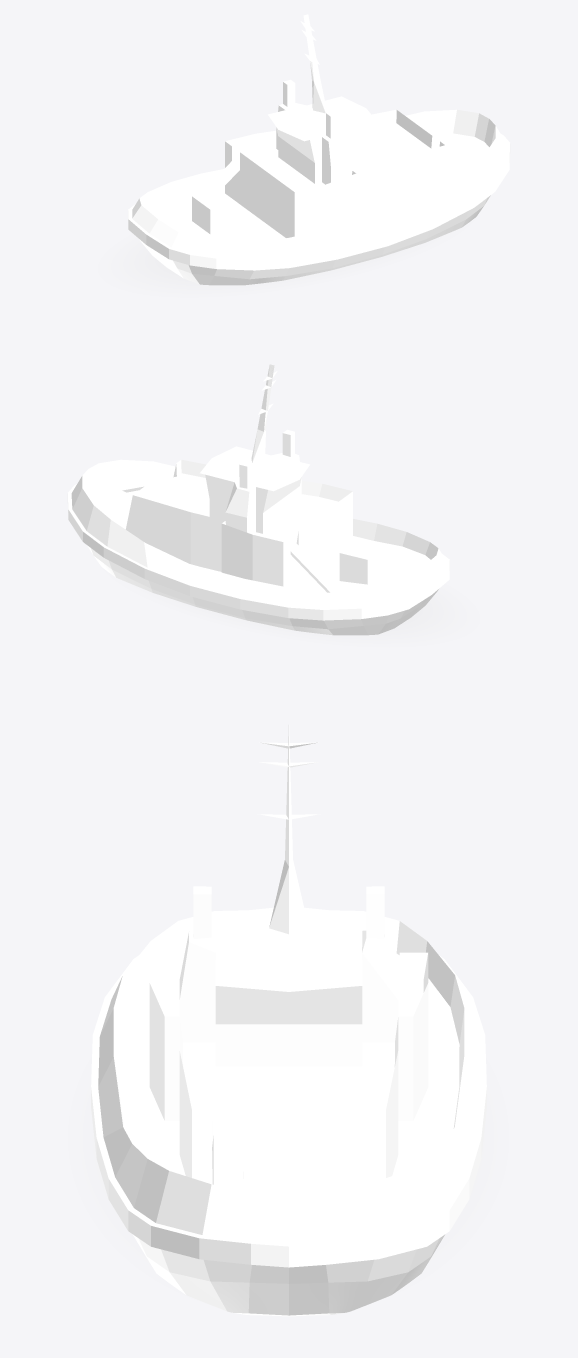
Rendered from AIS_Tug-A_001.glb.
The picture shows the model from 3 angles, top to bottom: view 1: azimuth 30°, elevation 25°; view 2: azimuth 150°, elevation 25°; view 3: azimuth 270°, elevation 25°; orthographic projection. The views are drawn at different scales.
Parts seen in each view (by area): view 1: AIS_Tug-A.002, SurfaceGraphic_whiteGlow.006; view 2: AIS_Tug-A.002, SurfaceGraphic_whiteGlow.006; view 3: AIS_Tug-A.002.
Boxes of the visible parts, x1,y1,x2,y2 form: AIS_Tug-A.002: [128, 14, 510, 285]; SurfaceGraphic_whiteGlow.006: [128, 244, 388, 287]; AIS_Tug-A.002: [67, 364, 449, 635]; SurfaceGraphic_whiteGlow.006: [195, 594, 449, 637]; AIS_Tug-A.002: [91, 725, 486, 1316].
Bounding box in the file's own units: 27.21 × 13.34 × 14.07.
Materials: 2 (1 with a texture image).
